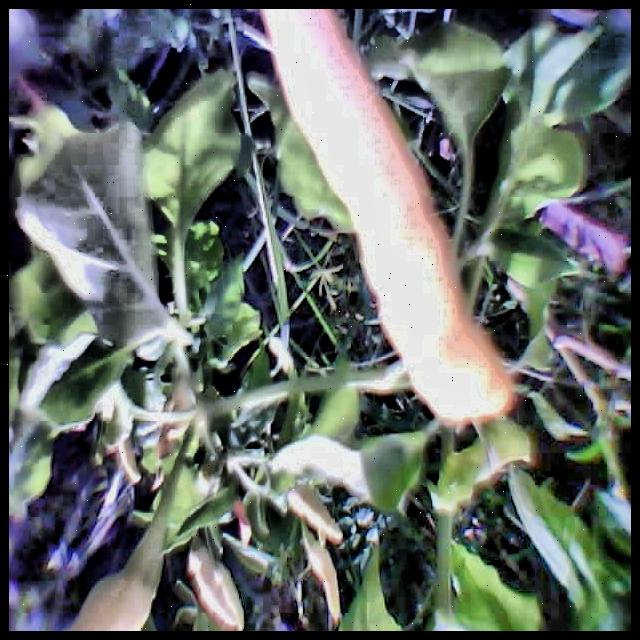Cabai: (263, 9, 544, 434)
